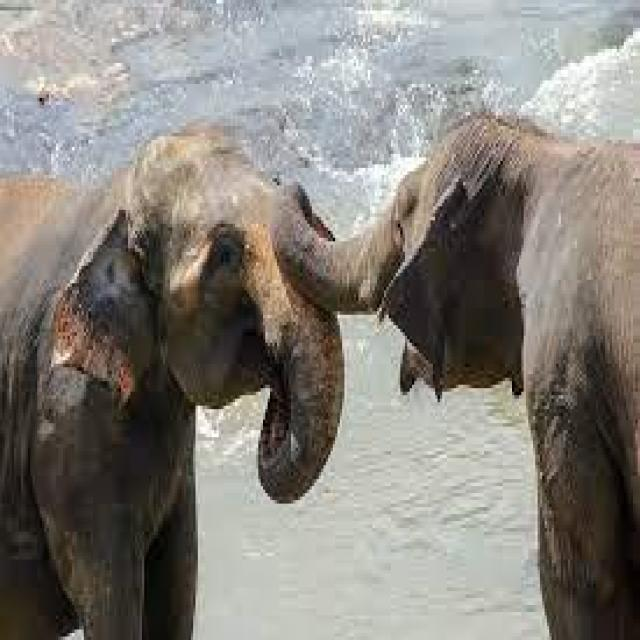Elephant: (282, 119, 638, 633), (0, 115, 279, 636)
